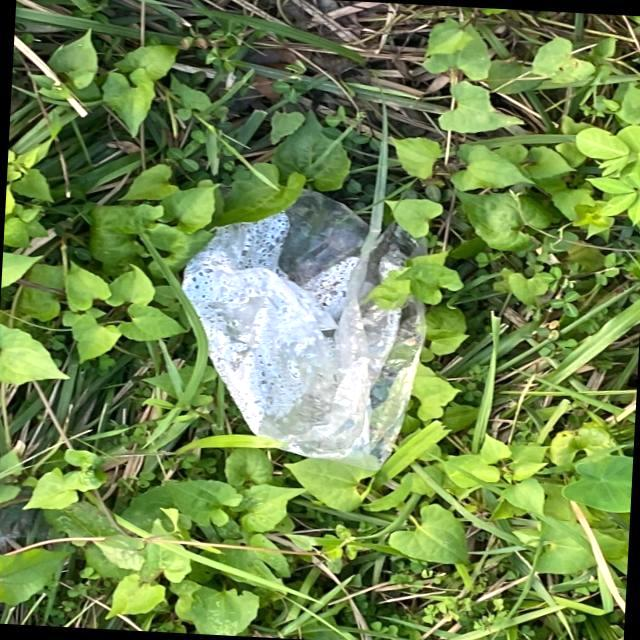polythene: (168, 182, 438, 468)
